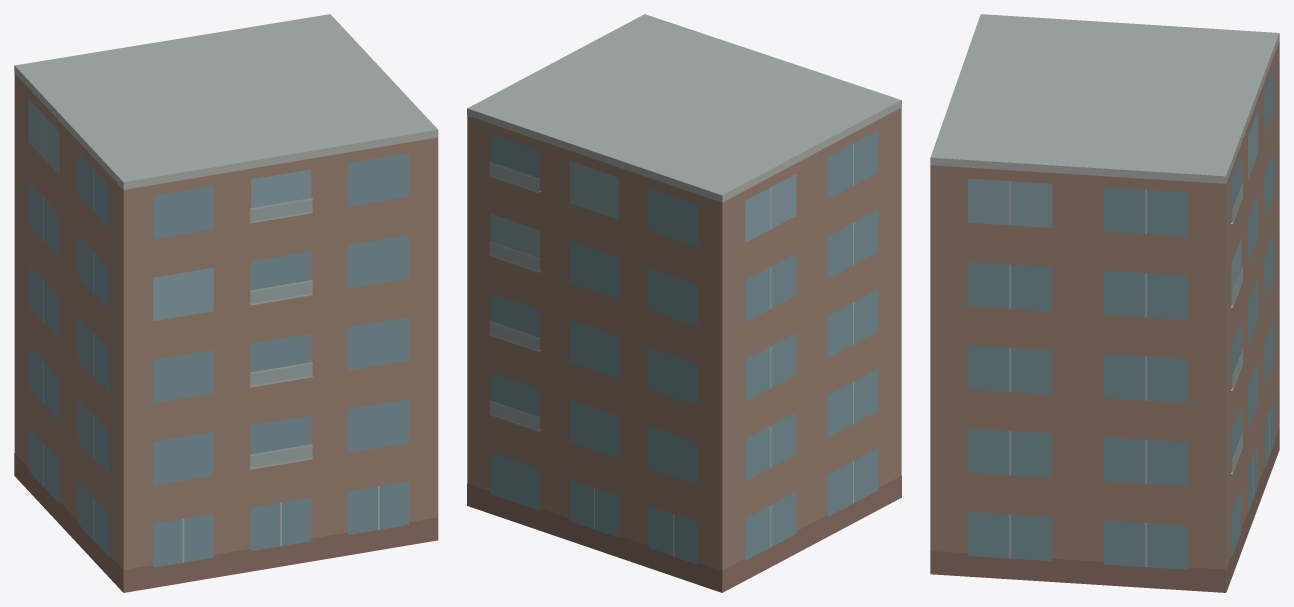
The model's file is survey-upis-32680169.glb.
3 renders of one model, left to right at view 1: azimuth 30°, elevation 25°; view 2: azimuth 150°, elevation 25°; view 3: azimuth 270°, elevation 25°, orthographic. The views are drawn at different scales.
Parts seen in each view (by area): view 1: survey-upis-32680169.tmp; view 2: survey-upis-32680169.tmp; view 3: survey-upis-32680169.tmp.
Boxes of the visible parts, left/top/right/bottom form: survey-upis-32680169.tmp: left=14, top=14, right=438, bottom=592; survey-upis-32680169.tmp: left=467, top=14, right=901, bottom=592; survey-upis-32680169.tmp: left=930, top=14, right=1279, bottom=592.
Size of the model in its own units: 11.21 by 13.4 by 10.19.
